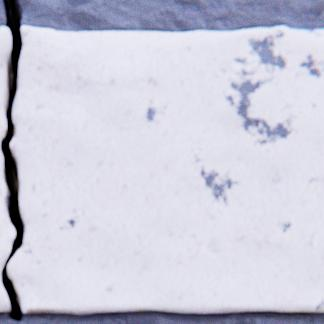broken_brick: (8, 27, 323, 314), (0, 153, 15, 311), (0, 28, 11, 142)
crack: (0, 0, 25, 322)
